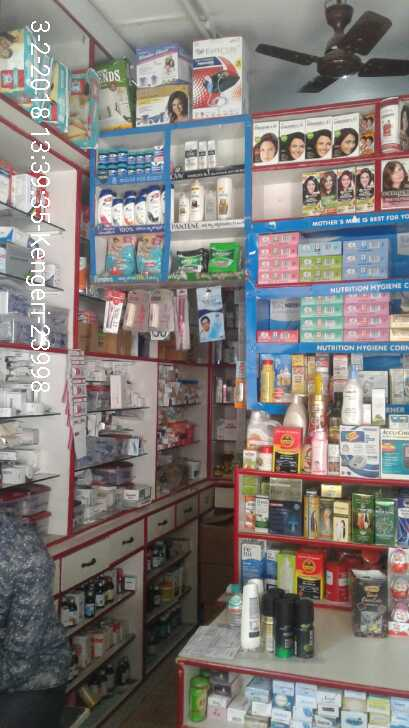beauty: (214, 174, 231, 218), (187, 178, 202, 220), (195, 140, 217, 167), (96, 188, 111, 226), (181, 137, 196, 170), (148, 184, 159, 226), (122, 196, 135, 228), (134, 195, 146, 226), (174, 192, 187, 220), (112, 197, 121, 226), (310, 53, 315, 55)
pharmacy: (208, 242, 240, 276), (135, 236, 162, 275), (106, 237, 133, 275), (171, 248, 205, 274), (96, 167, 166, 178), (127, 150, 151, 164), (93, 148, 105, 167), (106, 147, 117, 167), (151, 144, 164, 160), (117, 146, 127, 164)
